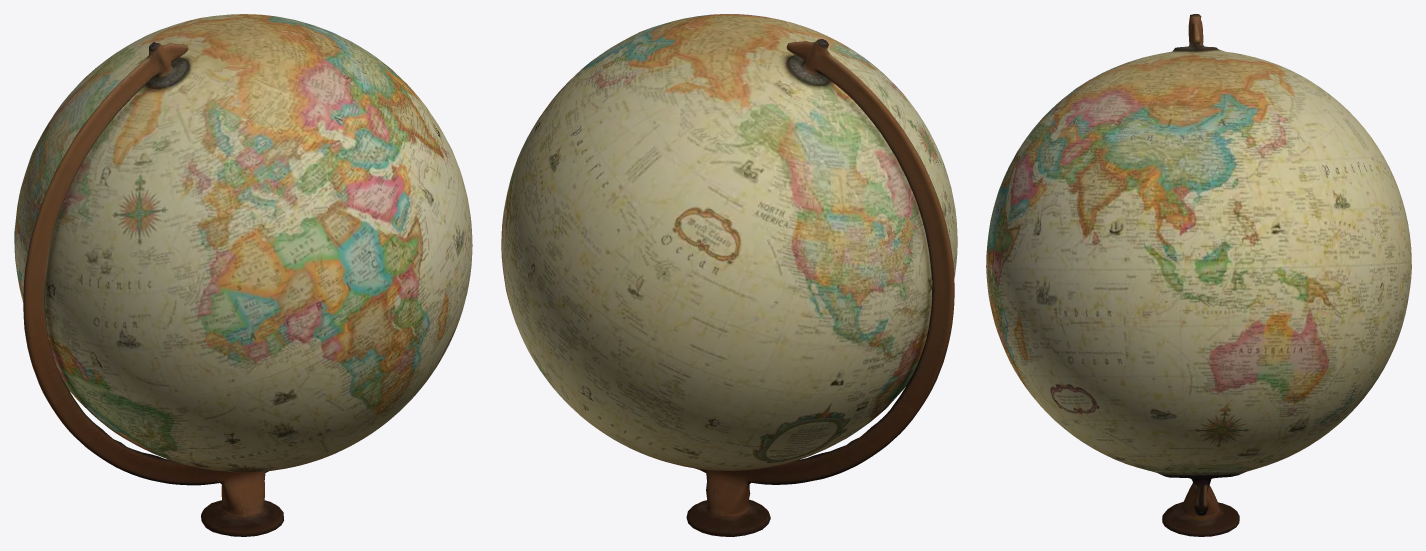
The model's file is globe.glb.
3 renders of one model, left to right at view 1: azimuth 30°, elevation 25°; view 2: azimuth 150°, elevation 25°; view 3: azimuth 270°, elevation 25°, orthographic. The views are drawn at different scales.
Parts seen in each view (by area): view 1: Object_2; view 2: Object_2; view 3: Object_2.
Part boxes in pixels (x1,y1,x2,y2): Object_2: (14, 14, 472, 536); Object_2: (501, 14, 957, 536); Object_2: (986, 14, 1411, 536).
Bounding box in the file's own units: 4.59 × 5.23 × 4.32.
Materials: 1 (1 with a texture image).
